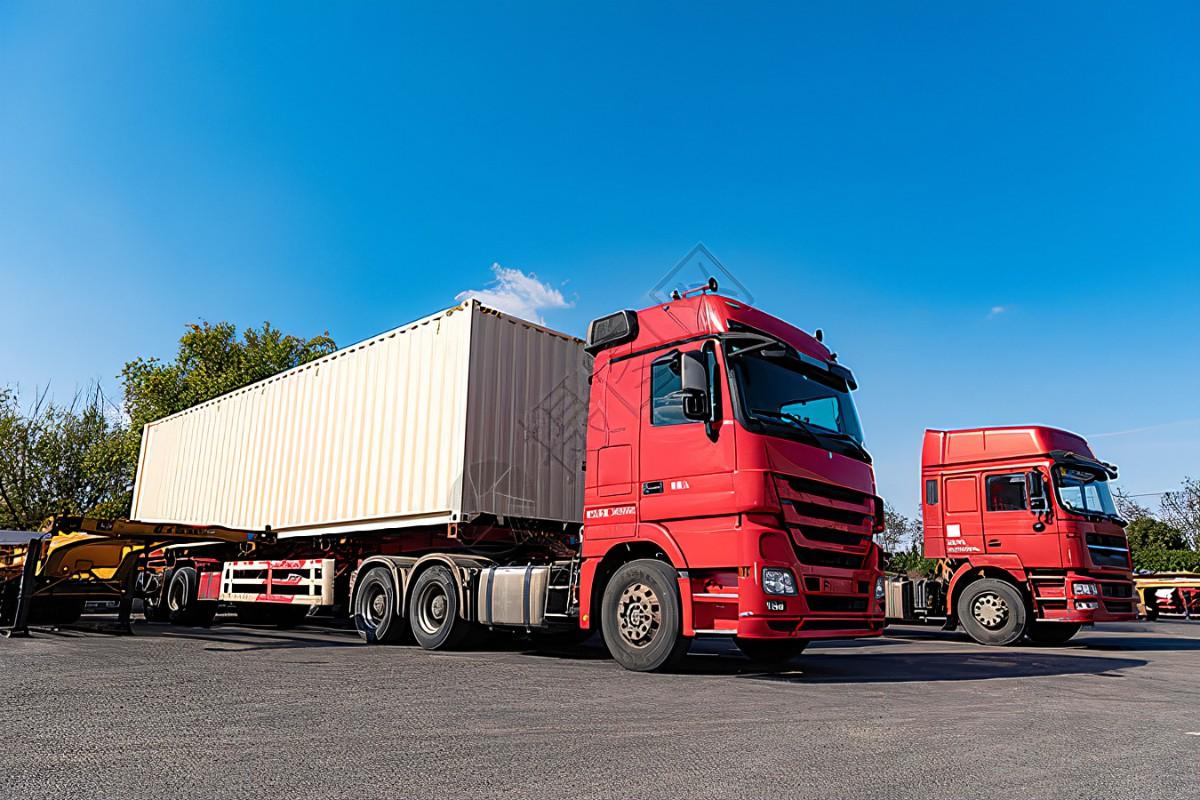truck: (92, 290, 901, 686)
